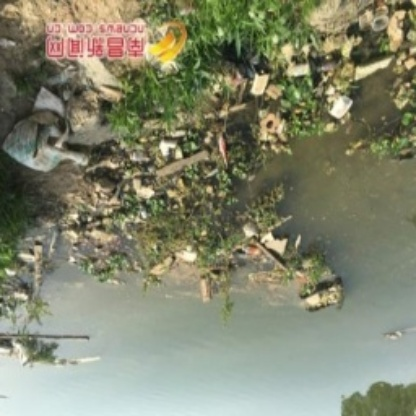plastic-bag: (5, 108, 75, 171)
